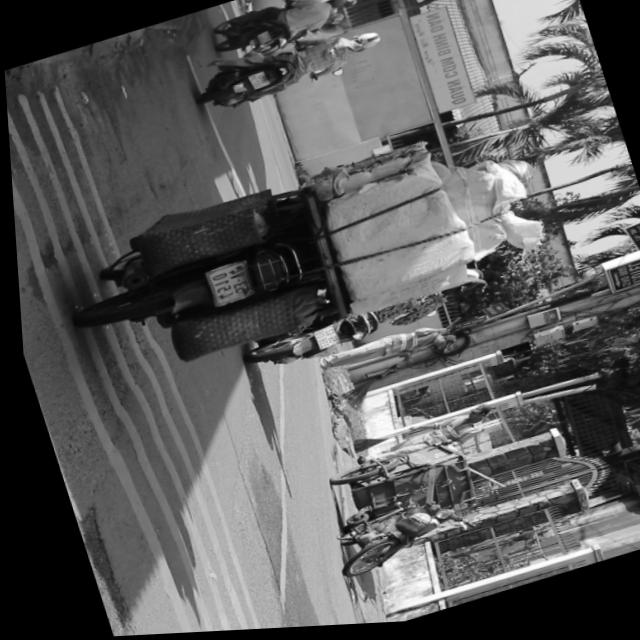licenseplate: (43, 106, 560, 398), (233, 270, 500, 381)
nohelmet: (202, 262, 250, 308), (308, 328, 334, 353)
